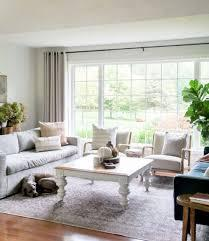chair: (170, 157, 209, 223)
sofa: (0, 125, 81, 204), (81, 130, 193, 178)
table: (53, 153, 162, 208), (173, 189, 209, 241)
